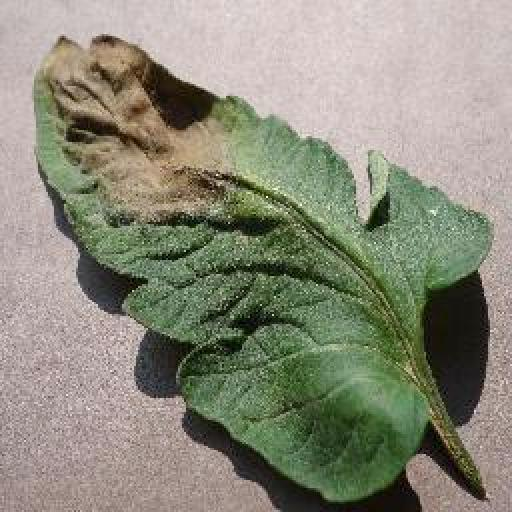disease_tomato: (31, 30, 501, 512)
